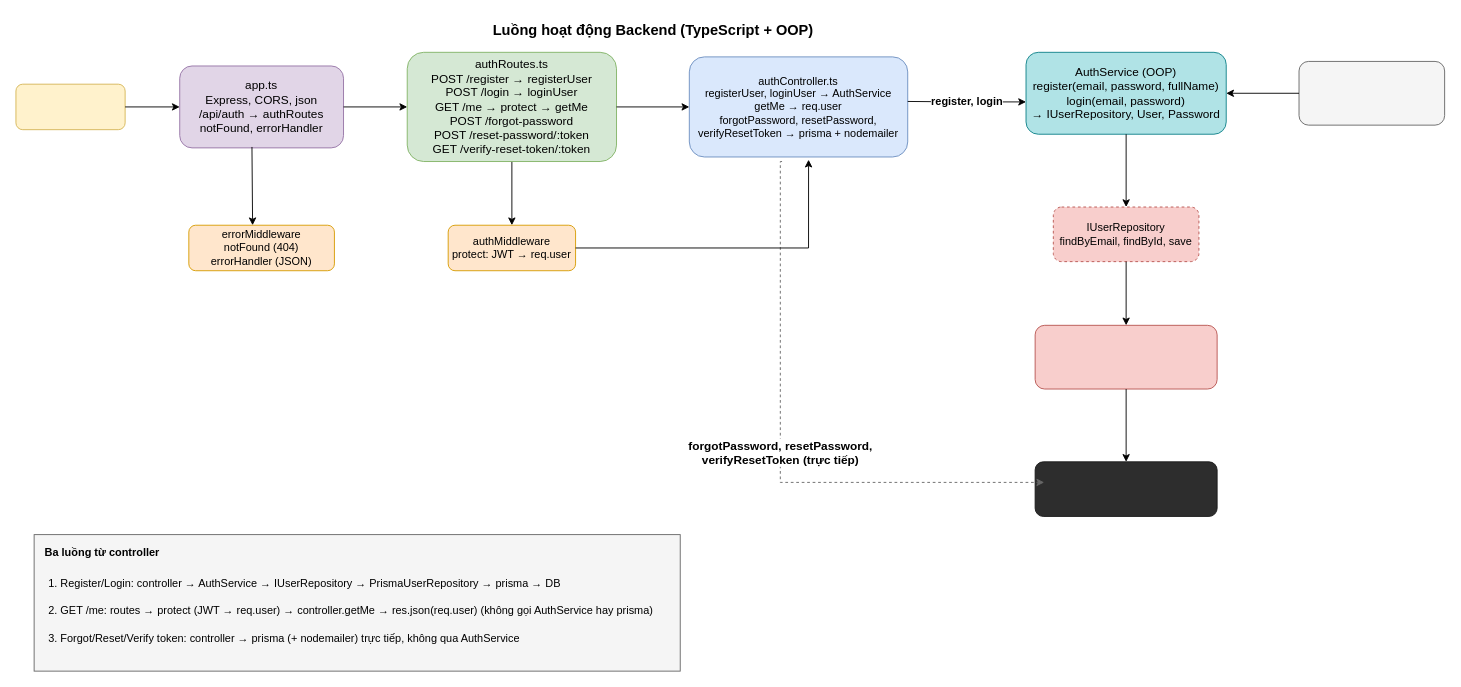
Some shapes in this 1461 by 687 pixel diagram are drawn without their labels. The box of each missing label's shape, as (x1, y1, x2, y2) in pixels:
Client (HTTP Request): (15, 83, 125, 130)
Domain User (entity) Password (value object): (1298, 61, 1445, 125)
lib/prisma.ts (singleton) PrismaClient → DB: (1034, 461, 1217, 516)
PrismaUserRepository implements IUserRepository toDomain(prismaUser) → User: (1034, 324, 1217, 389)
